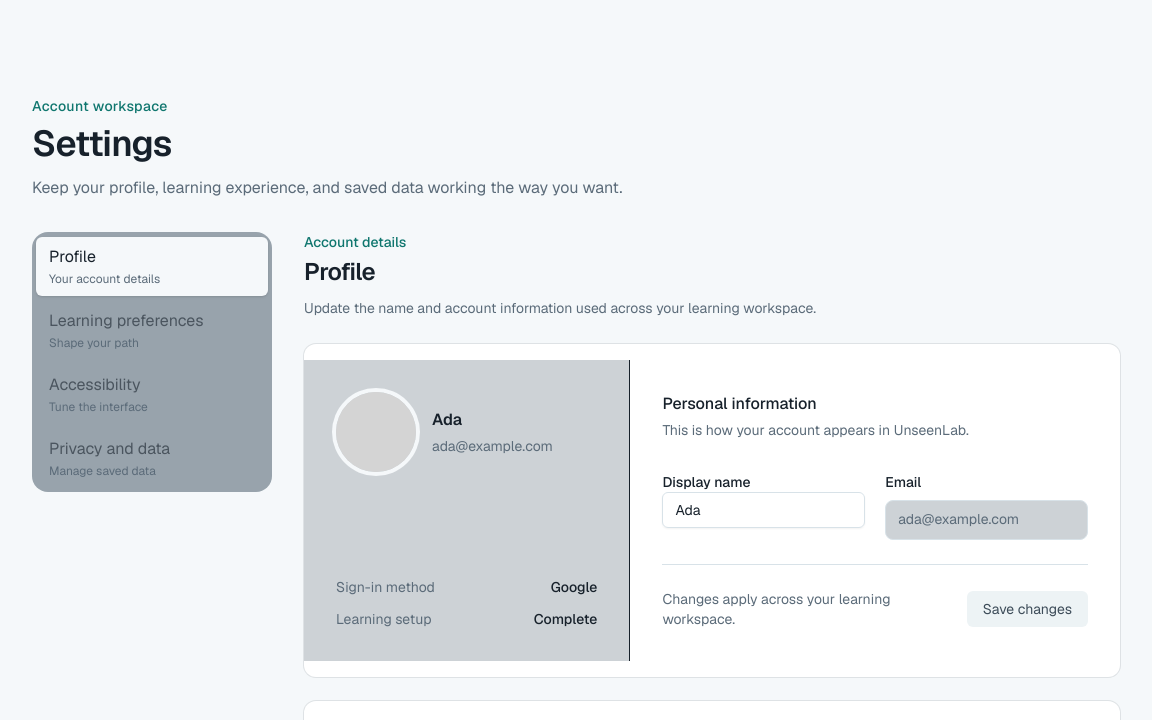
Settings — Profile tab › saves an edited display name via PATCH /api/account/profile
Step 1. Replace the text in the field labelled "Display name" with "Ada X" → (764, 510), box [662,492,865,528]
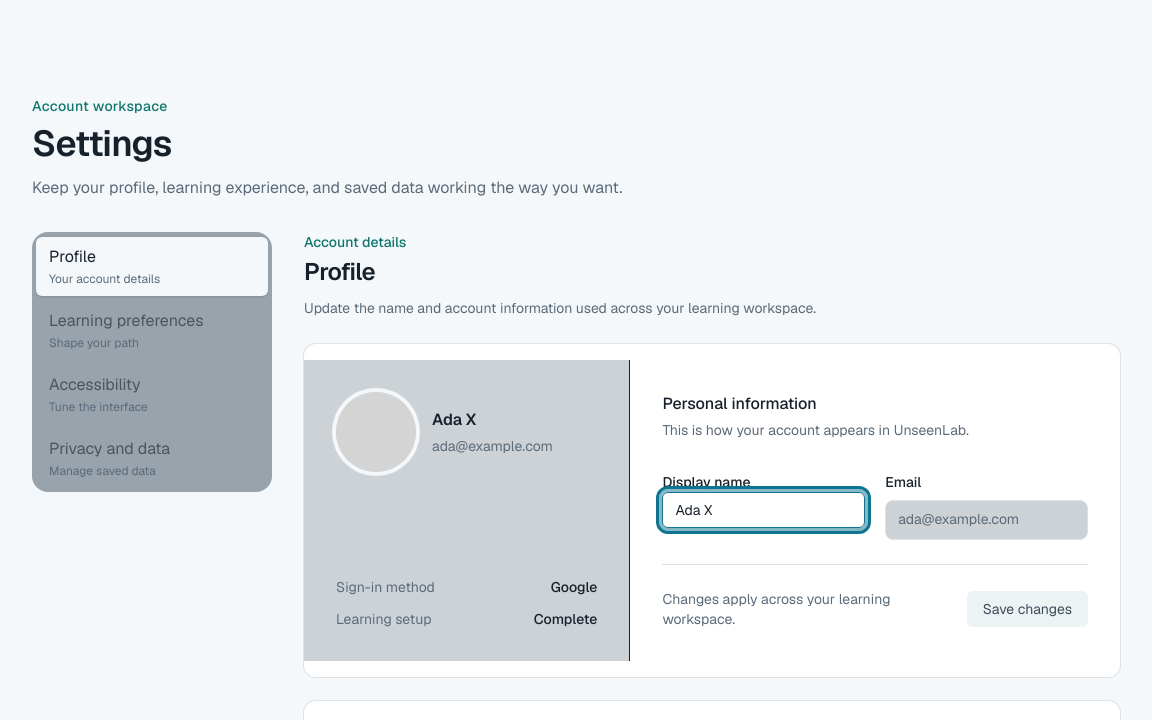
Step 2. Click the button "Save changes" → (1027, 609), box [967,591,1088,627]
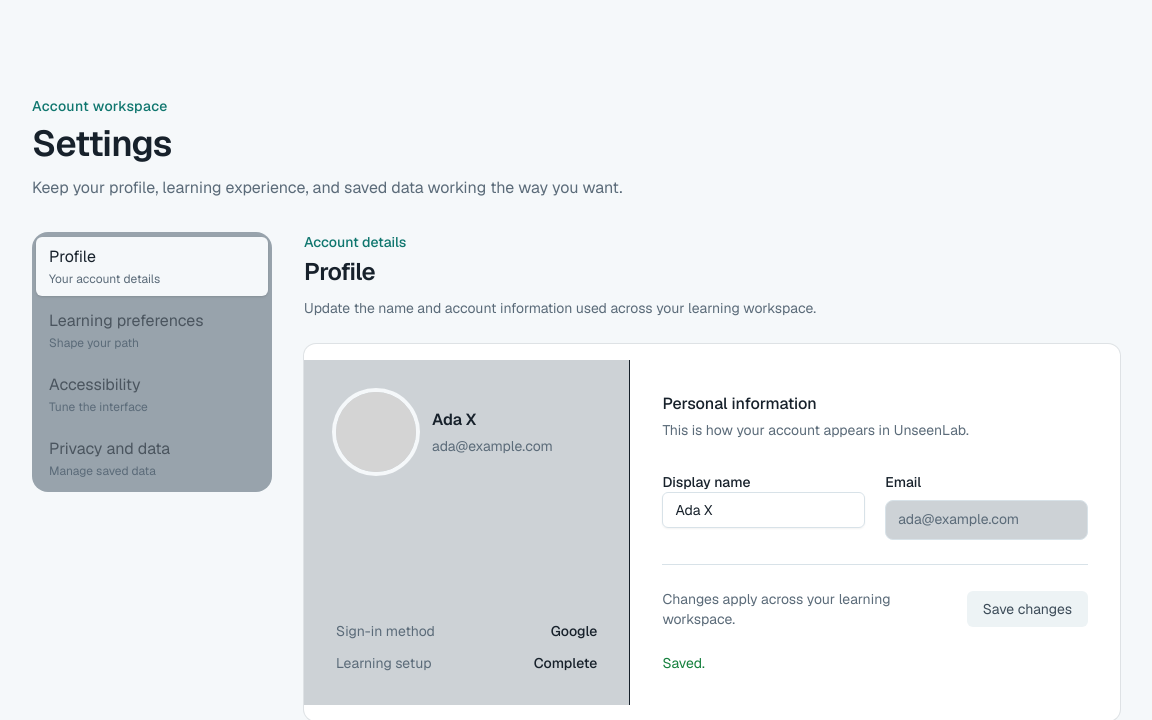
Expected: the text "Saved." is shown, [662,654,705,672]
